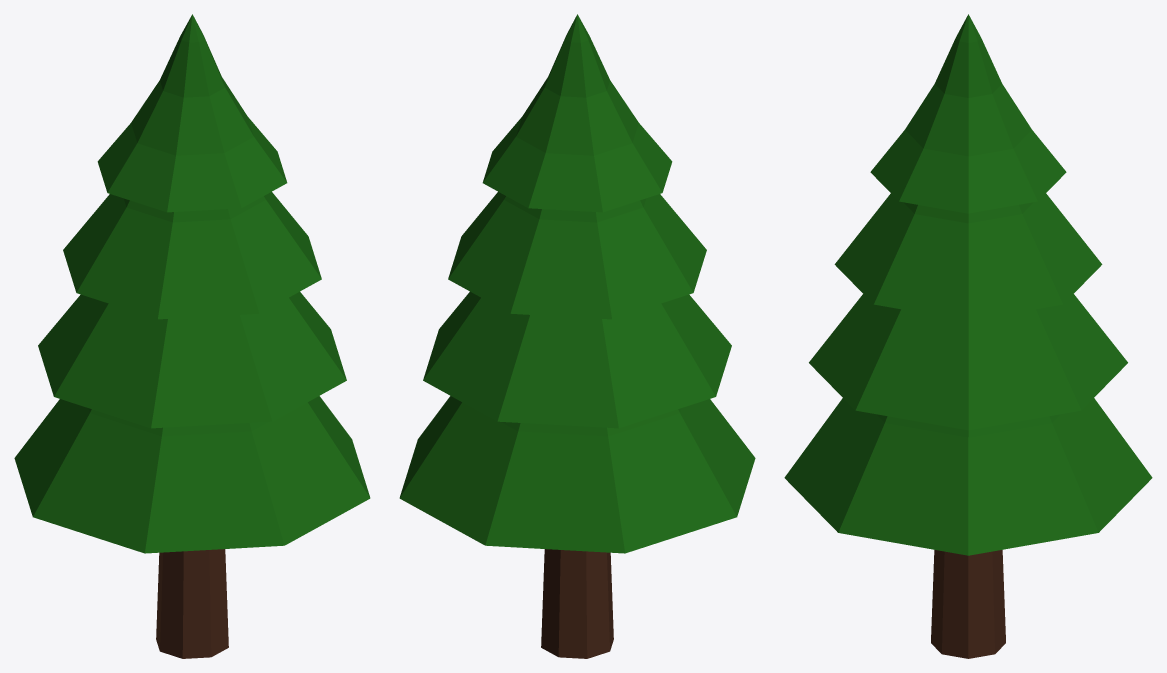
The model's file is Spruce_04.fbx.
3 renders of one model, left to right at view 1: azimuth 30°, elevation 25°; view 2: azimuth 150°, elevation 25°; view 3: azimuth 270°, elevation 25°, orthographic.
Parts seen in each view (by area): view 1: tree2.004; view 2: tree2.004; view 3: tree2.004.
Boxes of the visible parts, bbox=[...] form: tree2.004: bbox=[14, 14, 370, 658]; tree2.004: bbox=[399, 14, 755, 658]; tree2.004: bbox=[784, 14, 1152, 658].
Size of the model in its own units: 300 by 566 by 300.
